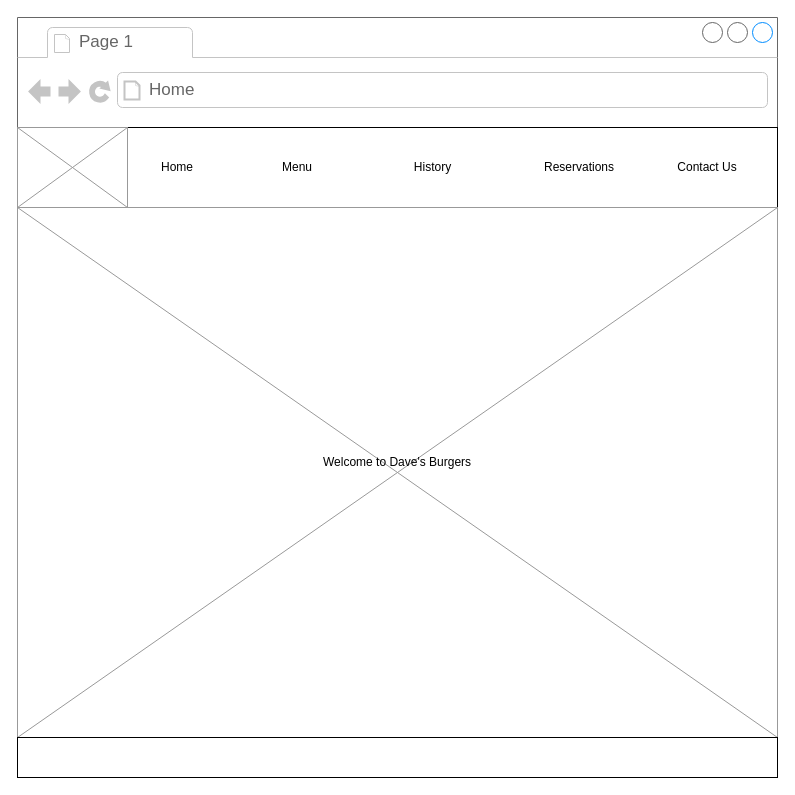
Some shapes in this 795 by 795 pixel diagram are drawn without their labels. Each missing label, with the box of its shape:
Company Logo: (16, 126, 128, 208)
Company phone # . Address .: (16, 736, 778, 778)
